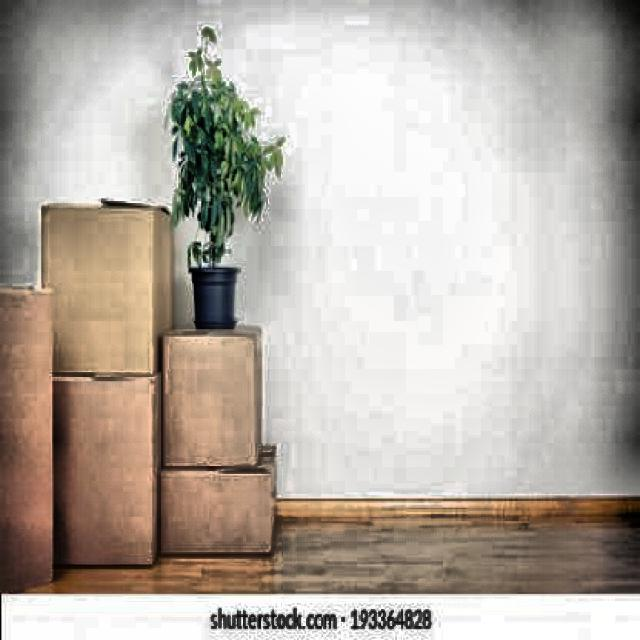Cardbox: (33, 185, 174, 384), (133, 323, 286, 486), (51, 375, 162, 572), (152, 451, 290, 562)
